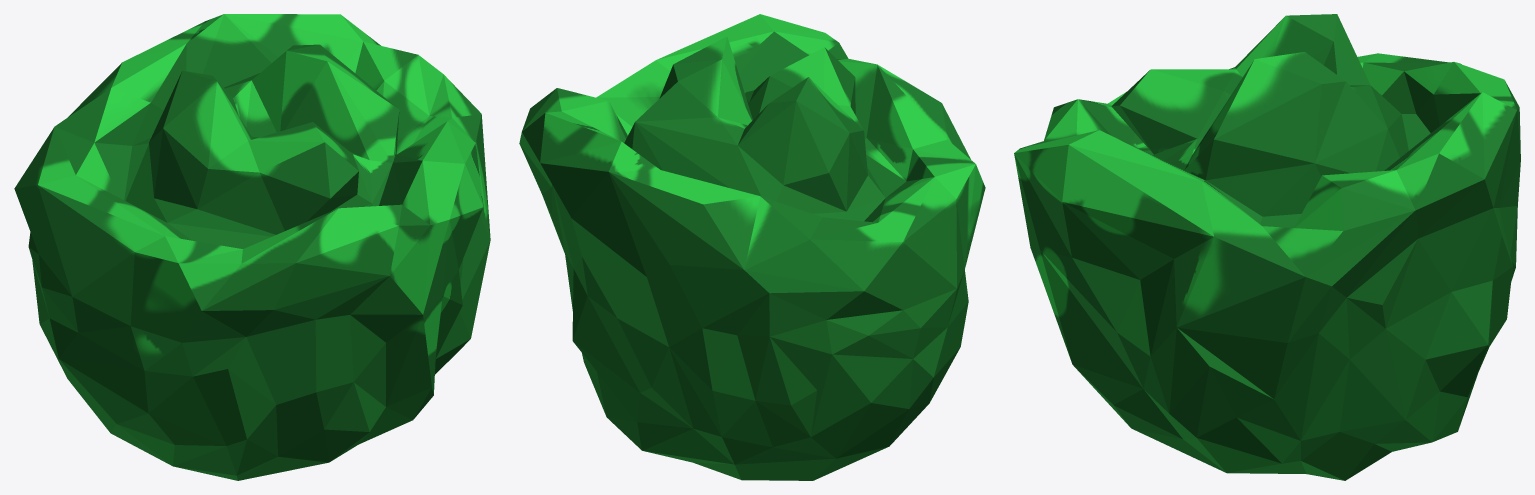
The model's file is Salade.fbx.
3 views of the same model, side by side, from view 1: azimuth 30°, elevation 25°; view 2: azimuth 150°, elevation 25°; view 3: azimuth 270°, elevation 25° (orthographic). The views are drawn at different scales.
Parts seen in each view (by area): view 1: Salade; view 2: Salade; view 3: Salade.
Boxes of the visible parts, bbox=[...] form: Salade: bbox=[14, 14, 490, 480]; Salade: bbox=[519, 14, 985, 480]; Salade: bbox=[1014, 14, 1520, 480].
Size of the model in its own units: 271 by 245 by 260.
1 material, 1 textured.
